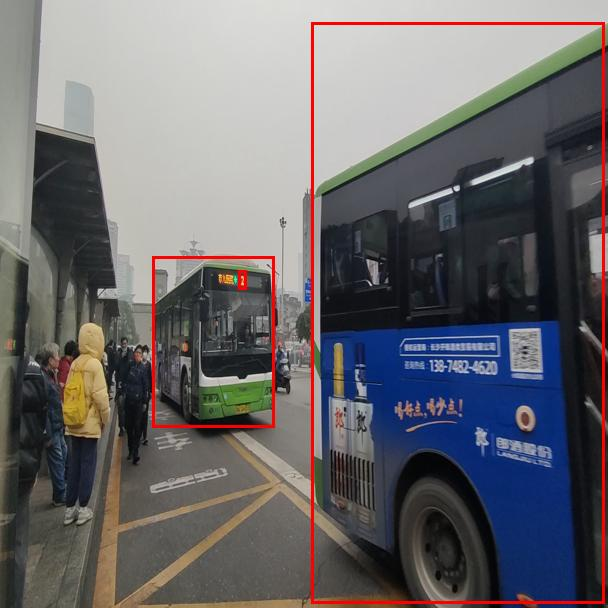bus: (311, 22, 604, 603), (152, 256, 274, 427)
screen: (238, 270, 246, 289)
